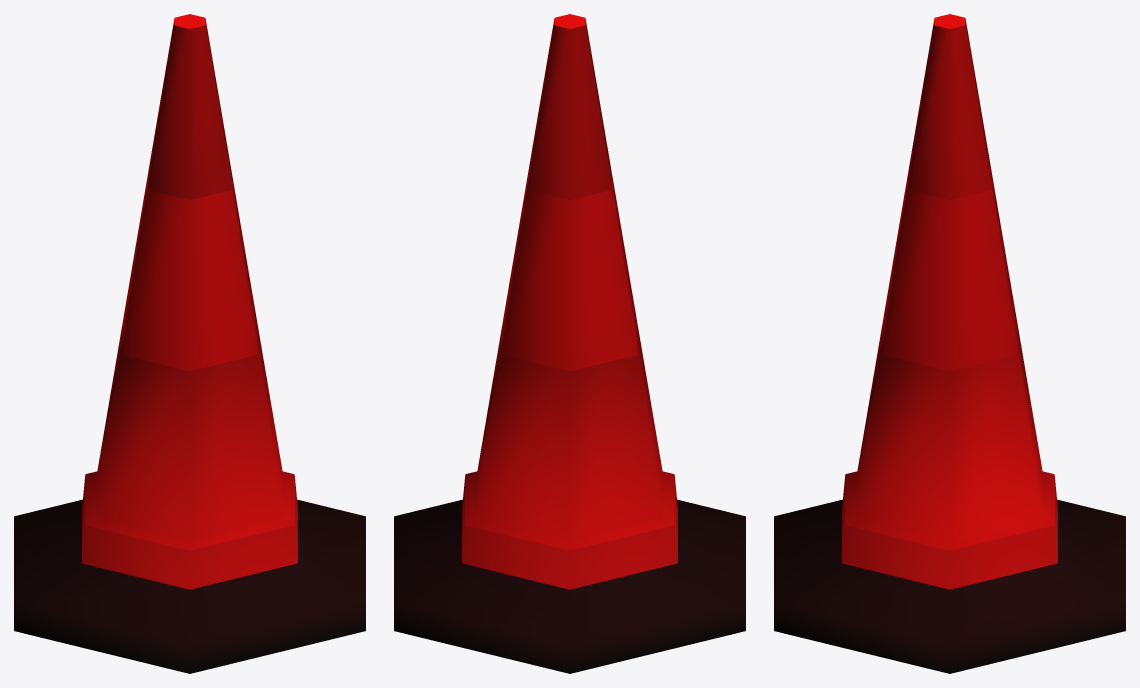
The model's file is ConstructionCone.glb.
The picture shows the model from 3 angles, left to right: view 1: azimuth 30°, elevation 25°; view 2: azimuth 150°, elevation 25°; view 3: azimuth 270°, elevation 25°; orthographic projection.
Visible parts, largest first — view 1: ConstructionCone; view 2: ConstructionCone; view 3: ConstructionCone.
Boxes of the visible parts, <box> form: ConstructionCone: <box>14,14,365,673</box>; ConstructionCone: <box>394,14,745,673</box>; ConstructionCone: <box>774,14,1125,673</box>.
Bounding box in the file's own units: 2.74 × 4.22 × 2.37.
